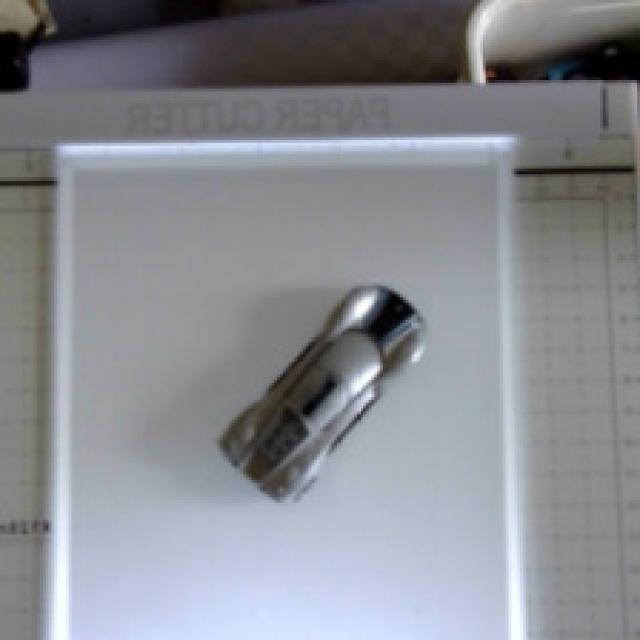Grey Car: (193, 261, 496, 548)
